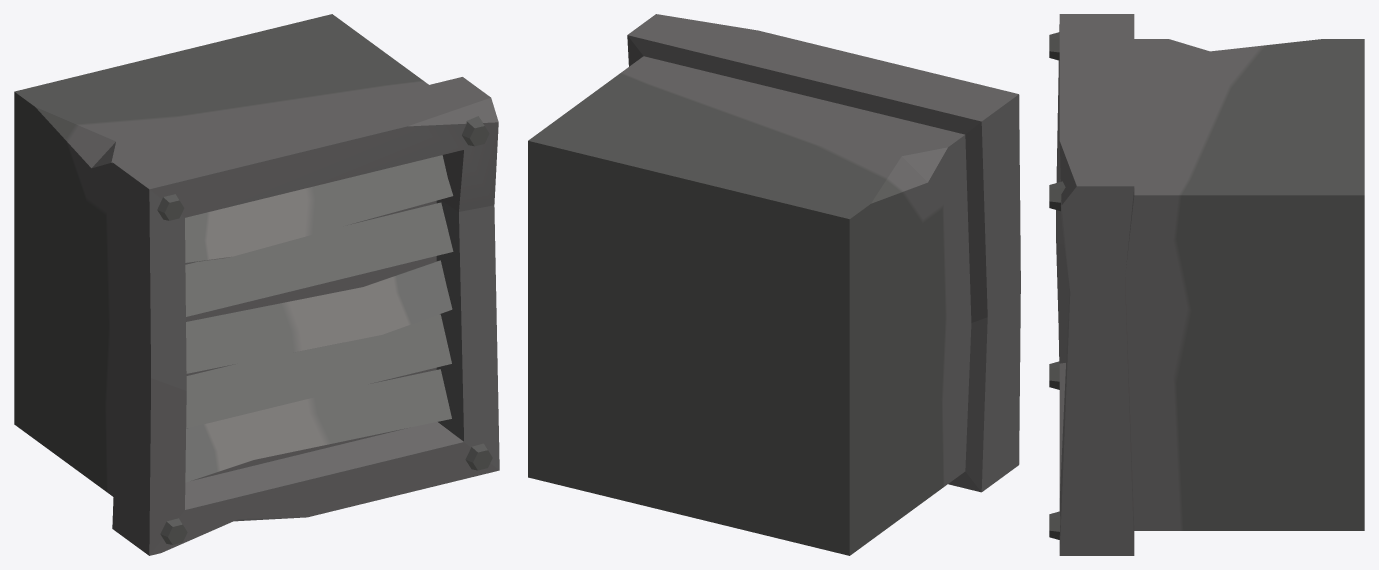
The model's file is SM_Prop_Air_Duct_End_02.fbx.
The picture shows the model from 3 angles, left to right: view 1: azimuth 30°, elevation 25°; view 2: azimuth 150°, elevation 25°; view 3: azimuth 270°, elevation 25°; orthographic projection.
Parts seen in each view (by area): view 1: SM_Prop_Air_Duct_End_02; view 2: SM_Prop_Air_Duct_End_02; view 3: SM_Prop_Air_Duct_End_02.
Boxes of the visible parts, x1,y1,x2,y2 form: SM_Prop_Air_Duct_End_02: [14, 14, 499, 555]; SM_Prop_Air_Duct_End_02: [528, 14, 1020, 555]; SM_Prop_Air_Duct_End_02: [1049, 14, 1364, 555].
Bounding box in the file's own units: 88.97 × 88.97 × 68.79.
